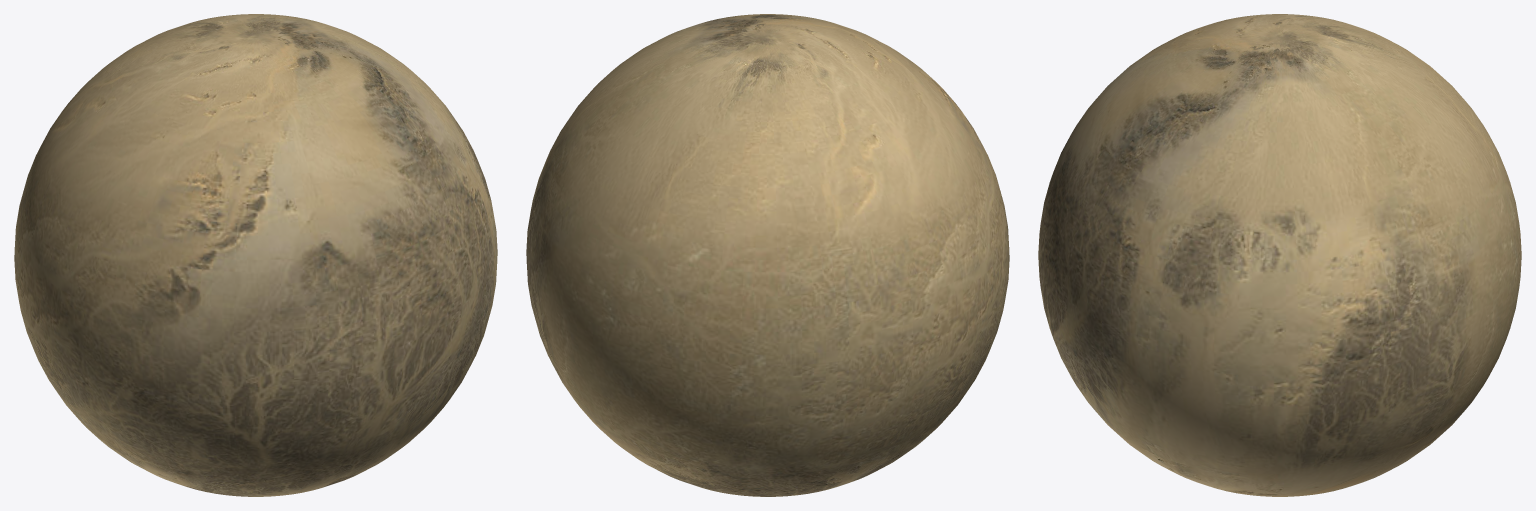
The model's file is Proxima_Centauri_b.glb.
3 views of the same model, side by side, from view 1: azimuth 30°, elevation 25°; view 2: azimuth 150°, elevation 25°; view 3: azimuth 270°, elevation 25° (orthographic).
Visible parts, largest first — view 1: Proxima Centauri b; view 2: Proxima Centauri b; view 3: Proxima Centauri b.
Part boxes in pixels (bbox=[...]): Proxima Centauri b: bbox=[14, 14, 497, 496]; Proxima Centauri b: bbox=[526, 14, 1009, 496]; Proxima Centauri b: bbox=[1038, 14, 1521, 496].
Size of the model in its own units: 32 by 32 by 32.
1 material, 1 textured.
